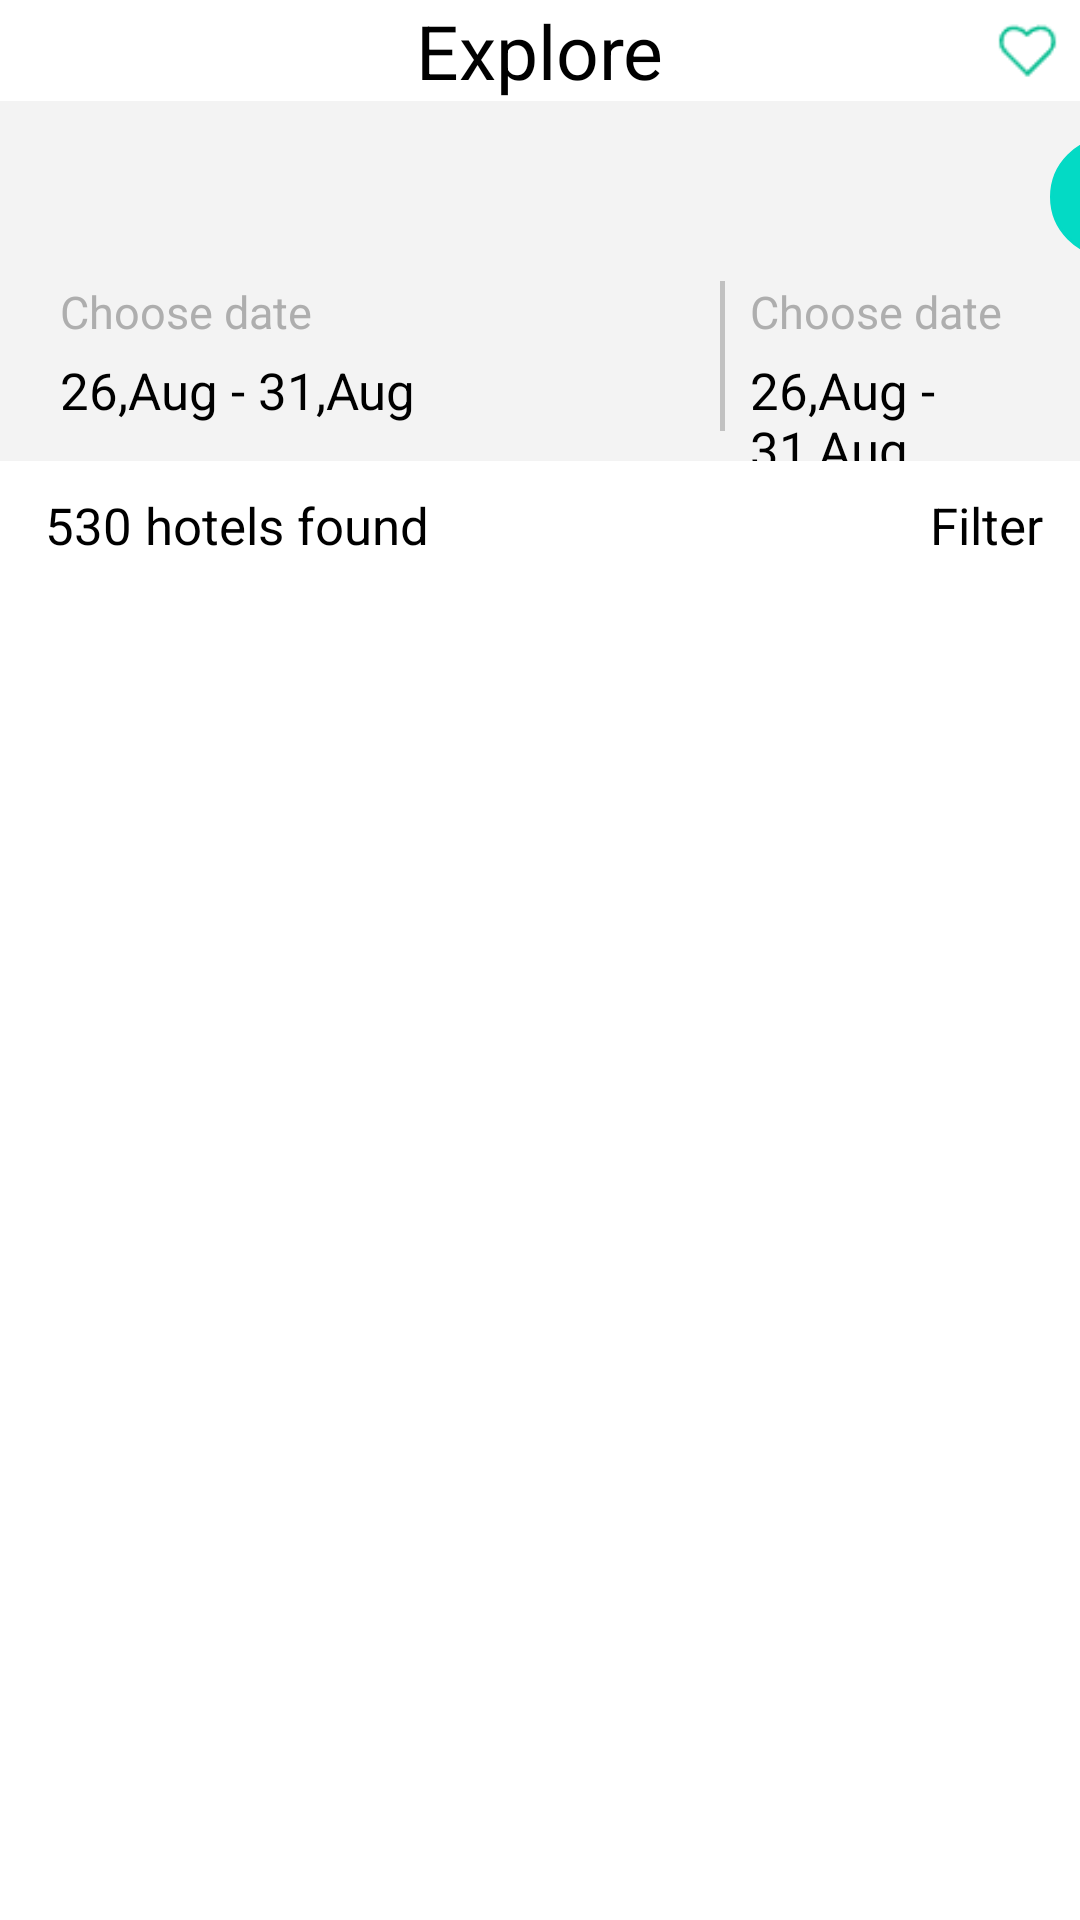

Icons on this 1080px×1920px Android screen, each with its box as (x1, y1, x2, y2):
love: (998, 24, 1057, 77)
